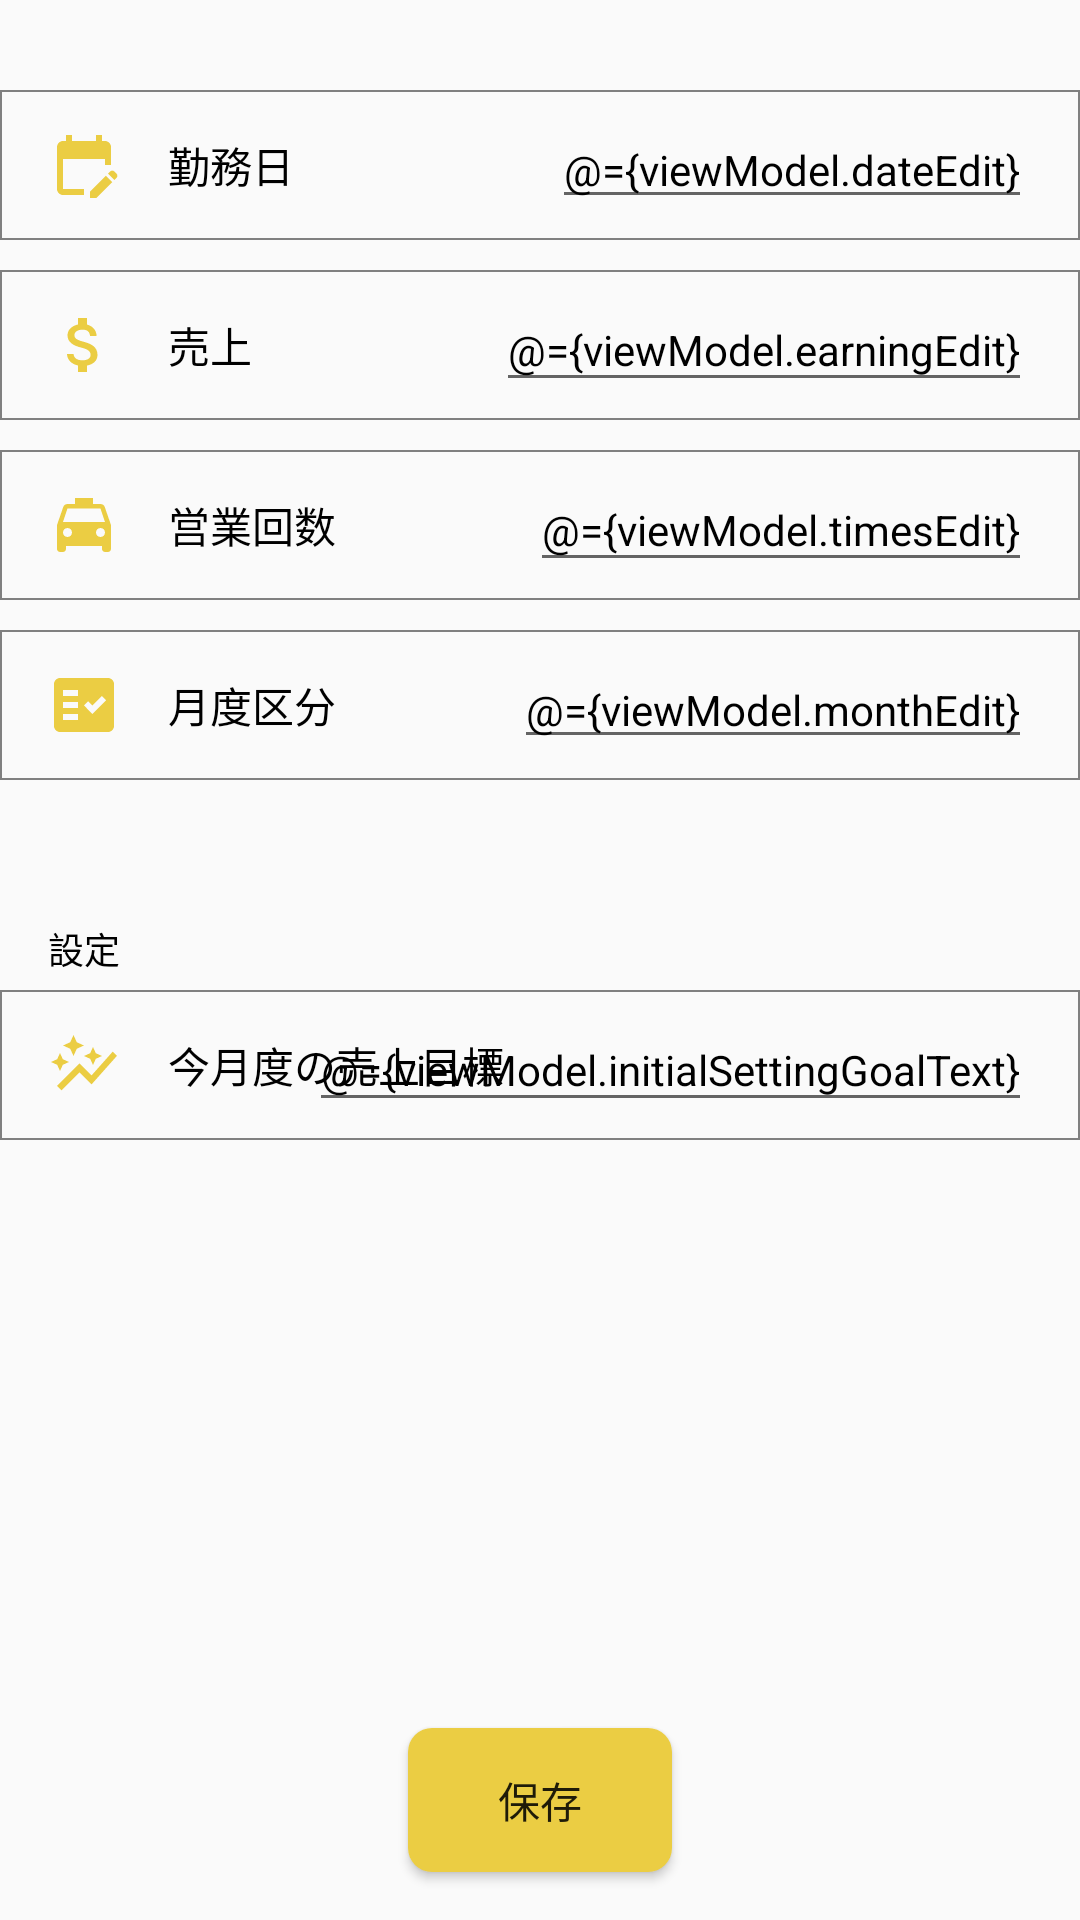

Named icons in this screenshot (1080px×1920px) and their bounding boxes, {"left": x1, "top": y1, "right": x2, "bottom": y2}:
attach money: {"left": 67, "top": 318, "right": 98, "bottom": 372}
auto graph: {"left": 51, "top": 1035, "right": 117, "bottom": 1090}
edit calendar: {"left": 57, "top": 135, "right": 118, "bottom": 198}
fact check: {"left": 54, "top": 678, "right": 114, "bottom": 732}
local taxi: {"left": 57, "top": 498, "right": 111, "bottom": 552}
